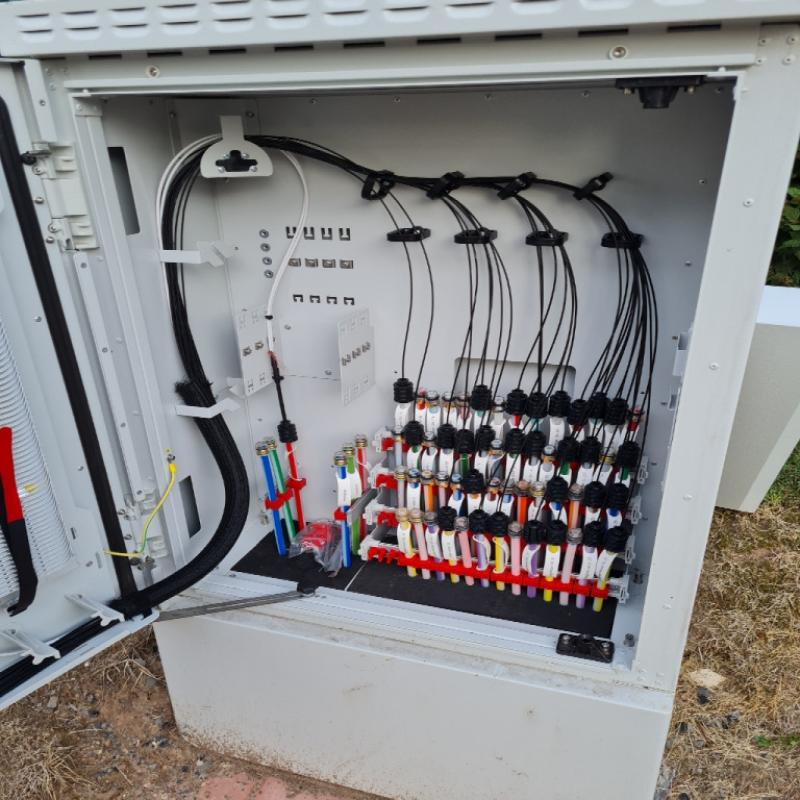NT-Gehause: (2, 0, 798, 800)
Spleiskassetten: (1, 315, 86, 620)
